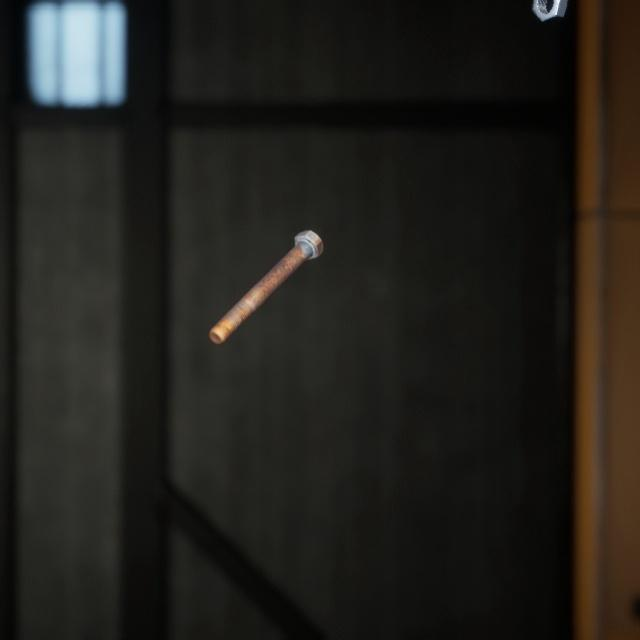bolt: (204, 208, 327, 330)
